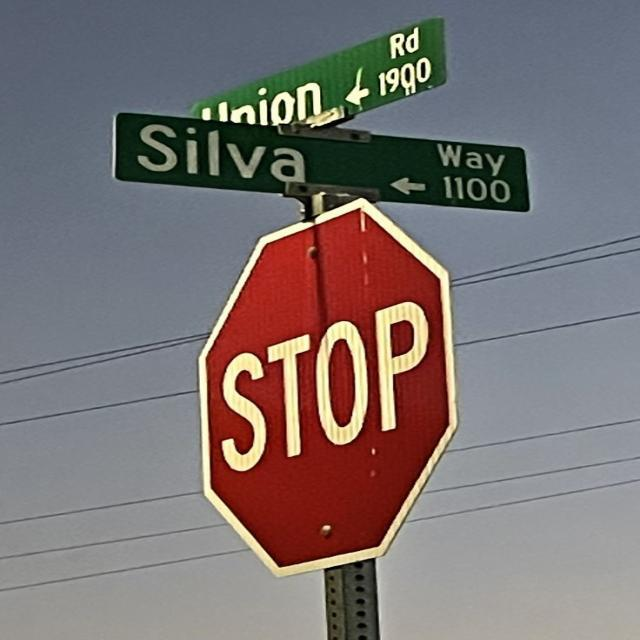stop: (196, 196, 459, 578)
